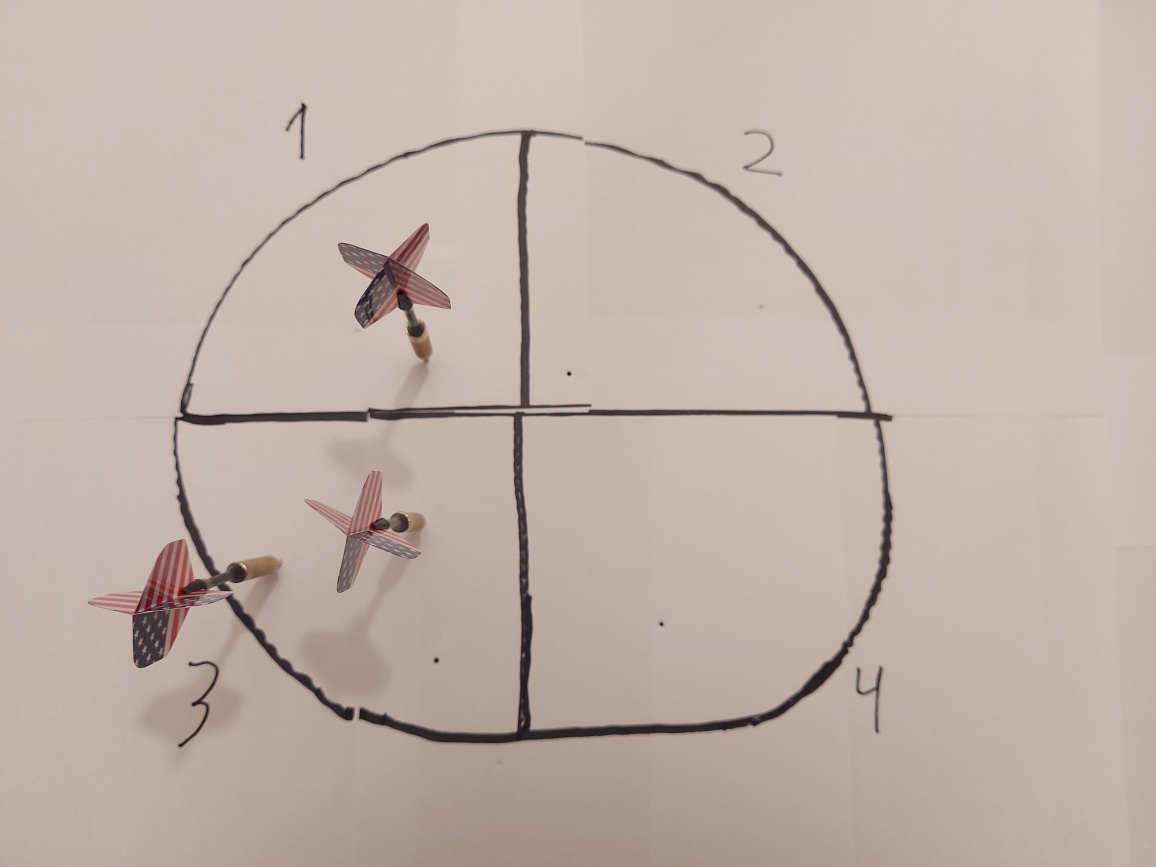Dart: (80, 531, 302, 671), (335, 217, 464, 379), (300, 464, 435, 600)
